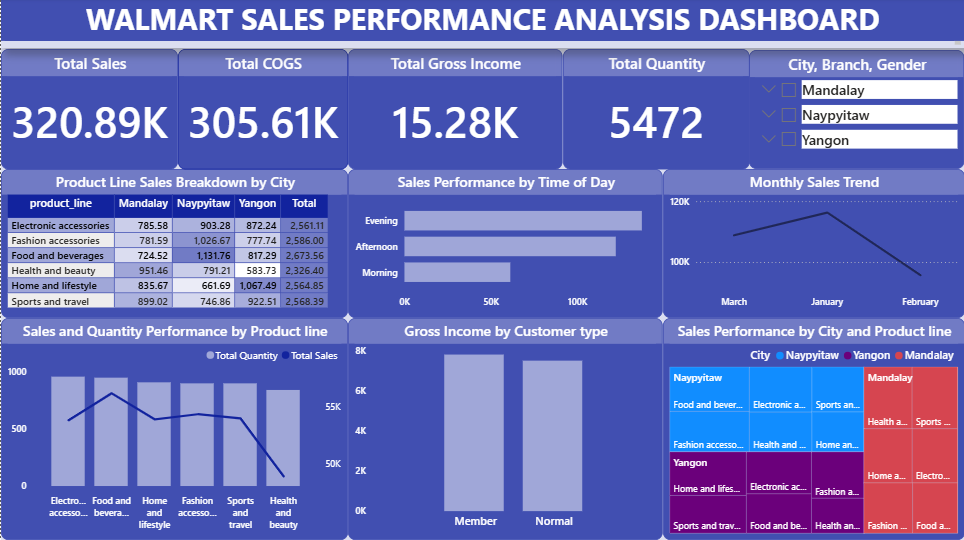

What the dashboard file says about the page in this screenshot:
{"tool":"powerbi","page":{"name":"Page 1","canvas":[1280,720],"ordinal":0},"visuals":[{"type":"pivotTable","title":"Product Line Sales Breakdown by City","fields":{"Values":["salesdatawalmart sales.Total Gross Income"],"Columns":["salesdatawalmart sales.city"],"Rows":["salesdatawalmart sales.product_line"]},"box":[0,227.1,461.1,198.2],"z":0},{"type":"treemap","title":"Sales Performance by City and Product line","fields":{"Group":["salesdatawalmart sales.city"],"Values":["salesdatawalmart sales.Total Sales"],"Details":["salesdatawalmart sales.product_line"]},"box":[879.5,425.3,400.5,294.5],"z":1000},{"type":"clusteredBarChart","title":"Sales Performance by Time of Day","fields":{"Y":["salesdatawalmart sales.Total Sales"],"Category":["salesdatawalmart sales.time_of_day"]},"box":[461.1,227.1,418.4,198.2],"z":2000},{"type":"clusteredColumnChart","title":"Gross Income by Customer type","fields":{"Category":["salesdatawalmart sales.customer_type"],"Y":["salesdatawalmart sales.Total Gross Income"]},"box":[461.1,425.3,418.4,294.5],"z":3000},{"type":"lineClusteredColumnComboChart","title":"Sales and Quantity Performance by Product line","fields":{"Category":["salesdatawalmart sales.product_line"],"Y":["salesdatawalmart sales.Total Quantity"],"Y2":["salesdatawalmart sales.Total Sales"]},"box":[0,425.3,461.1,294.5],"z":4000},{"type":"card","title":"Total Sales","fields":{"Values":["salesdatawalmart sales.Total Sales"]},"box":[0,67.4,235.4,159.7],"z":5000},{"type":"card","title":"Total COGS","fields":{"Values":["salesdatawalmart sales.Total COGS"]},"box":[235.4,67.4,225.7,159.7],"z":6000},{"type":"card","title":"Total Gross Income","fields":{"Values":["salesdatawalmart sales.Total Gross Income"]},"box":[461.1,67.4,284.9,159.7],"z":7000},{"type":"card","title":"Total Quantity","fields":{"Values":["salesdatawalmart sales.Total Quantity"]},"box":[746,67.4,247.7,159.7],"z":8000},{"type":"slicer","title":"City, Branch, Gender","fields":{"Values":["salesdatawalmart sales.city","salesdatawalmart sales.branch","salesdatawalmart sales.gender"]},"box":[993.7,68.8,286.3,158.3],"z":9000},{"type":"textbox","title":"WALMART SALES PERFORMANCE ANALYSIS DASHBOARD","box":[0,0,1280,66.7],"z":10000},{"type":"lineChart","title":"Monthly Sales Trend","fields":{"Category":["salesdatawalmart sales.month_name"],"Y":["salesdatawalmart sales.Total Sales"]},"box":[879.5,227.1,400.5,198.2],"z":11000}]}

Visuals, with their boxes in screenshot pixels (x1, y1, x2, y2), scaled from the page's 1280x720 canvas onto the 964x540 screenshot:
"Product Line Sales Breakdown by City" pivotTable: <region>0, 170, 347, 319</region>
"Sales Performance by City and Product line" treemap: <region>662, 319, 963, 539</region>
"Sales Performance by Time of Day" clusteredBarChart: <region>347, 170, 662, 319</region>
"Gross Income by Customer type" clusteredColumnChart: <region>347, 319, 662, 539</region>
"Sales and Quantity Performance by Product line" lineClusteredColumnComboChart: <region>0, 319, 347, 539</region>
"Total Sales" card: <region>0, 51, 177, 170</region>
"Total COGS" card: <region>177, 51, 347, 170</region>
"Total Gross Income" card: <region>347, 51, 562, 170</region>
"Total Quantity" card: <region>562, 51, 748, 170</region>
"City, Branch, Gender" slicer: <region>748, 52, 963, 170</region>
"WALMART SALES PERFORMANCE ANALYSIS DASHBOARD" textbox: <region>0, 0, 963, 50</region>
"Monthly Sales Trend" lineChart: <region>662, 170, 963, 319</region>
